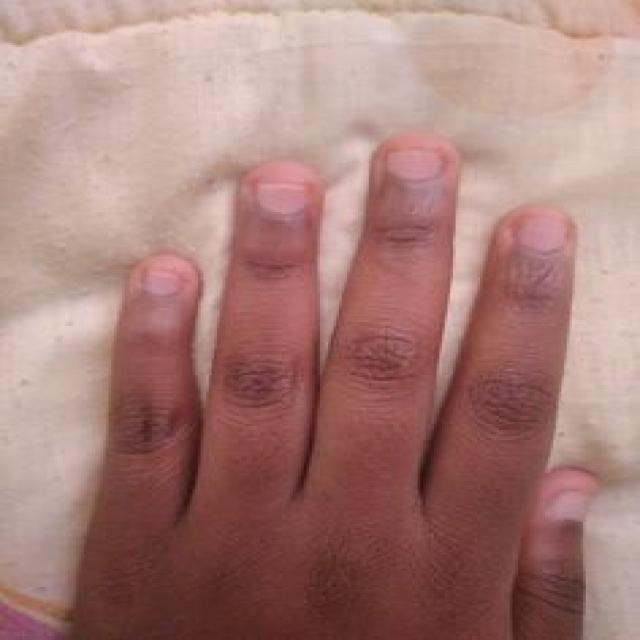Fingernail: (516, 216, 567, 252), (387, 150, 443, 181), (257, 184, 307, 216), (547, 491, 590, 522), (144, 269, 179, 295)
